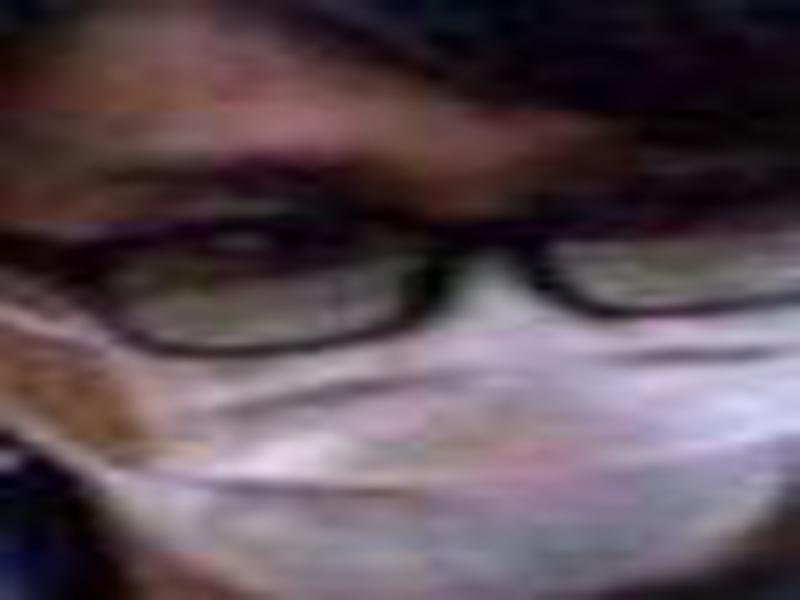with_mask: (8, 2, 800, 597)
